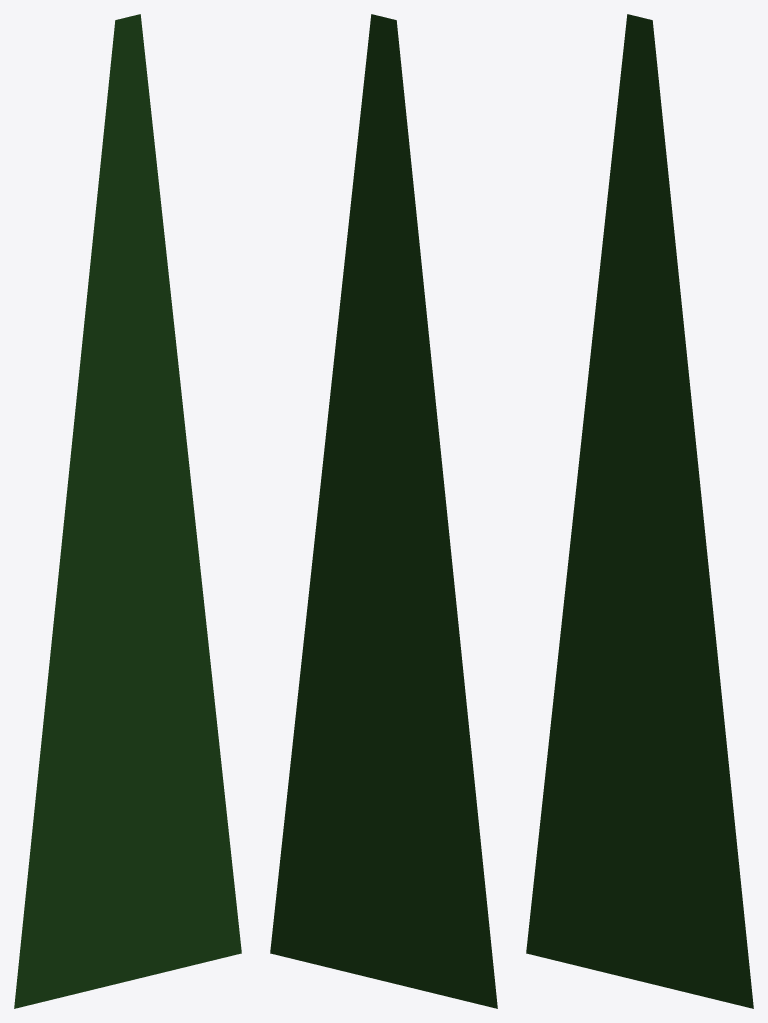
File: grass.glb
3 renders of one model, left to right at view 1: azimuth 30°, elevation 25°; view 2: azimuth 150°, elevation 25°; view 3: azimuth 330°, elevation 25°, orthographic.
Parts seen in each view (by area): view 1: Plane; view 2: Plane; view 3: Plane.
Part boxes in pixels (left/top/right/bottom): Plane: left=14, top=14, right=241, bottom=1008; Plane: left=270, top=14, right=497, bottom=1008; Plane: left=526, top=14, right=753, bottom=1008.
Size of the model in its own units: 0.2041 by 0.8256 by 1.83e-16.
